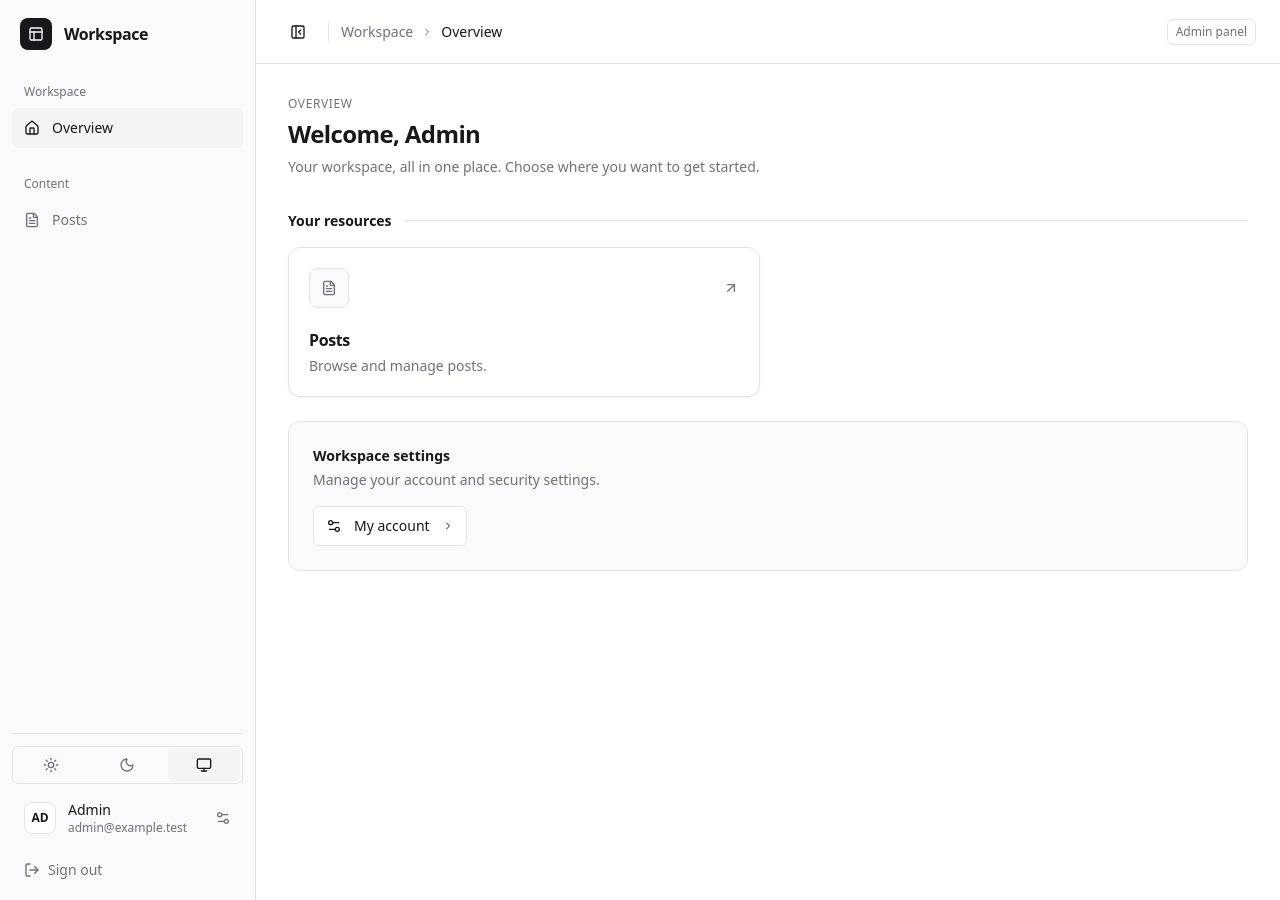
follows the language: labels, an error already shown, and the document title
Expected: the heading "Welcome, Admin" is shown, 288,117 -> 480,150
Step 1. Click the button "Sign out" → (128,870), box 12,852 -> 243,888
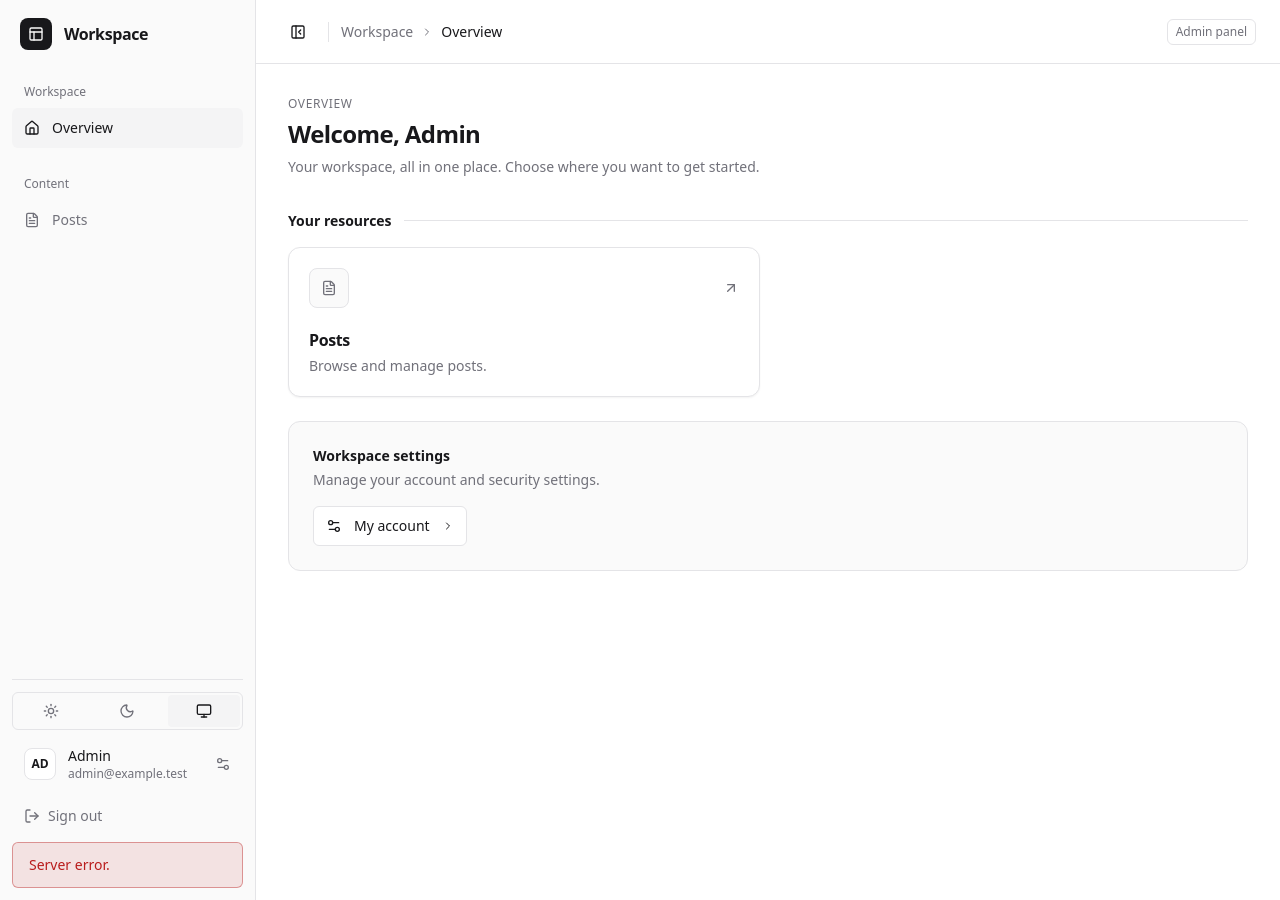
Expected: the heading named "Xin chào, Admin" is shown, 288,117 -> 480,150
Now the text "Lỗi server." is shown, box 12,842 -> 243,888
